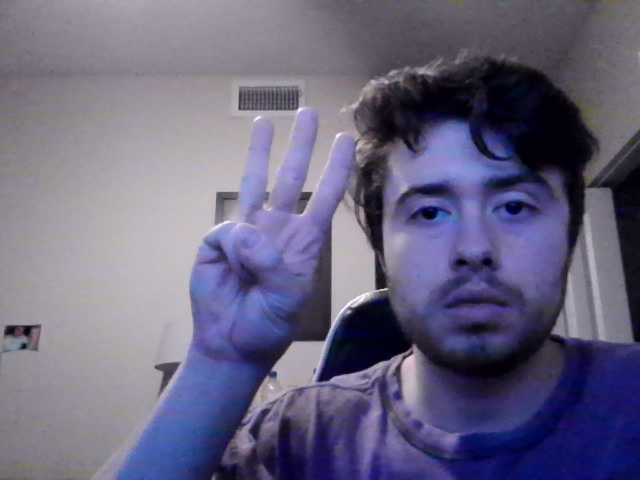w: (188, 107, 356, 389)
